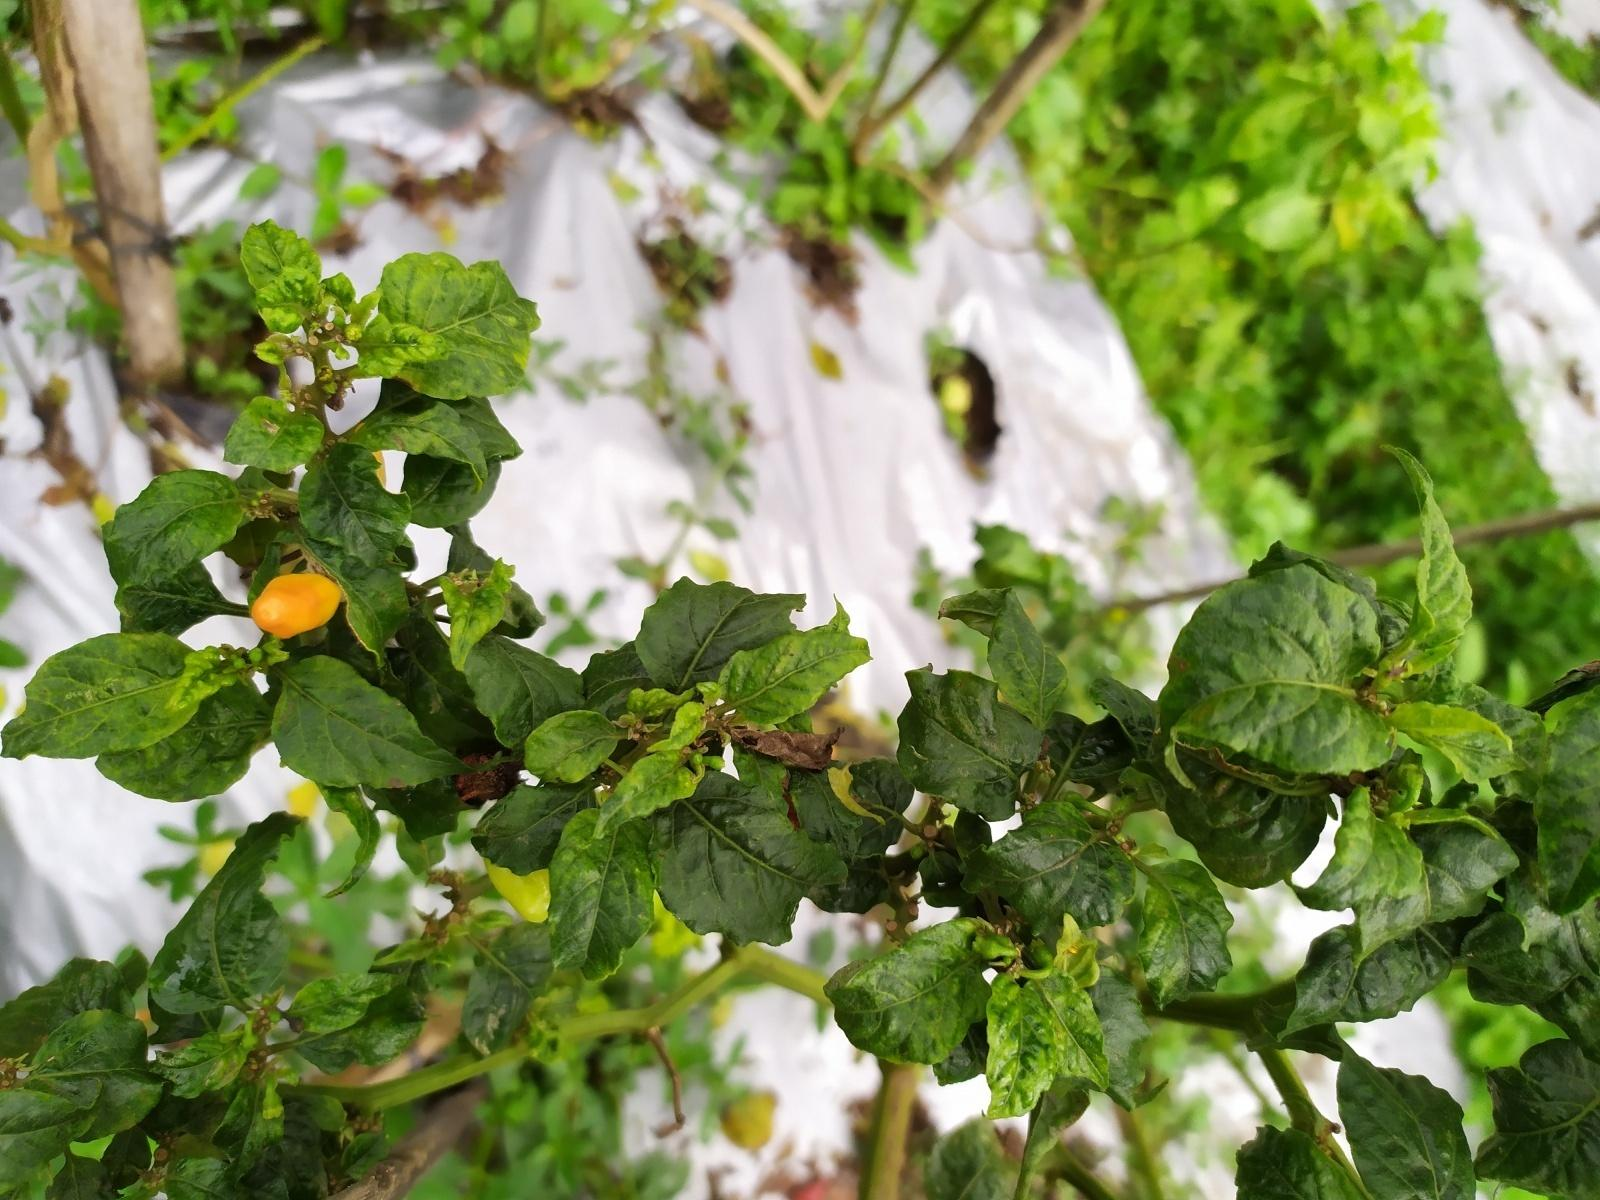cabai_normal: (251, 572, 339, 639)
